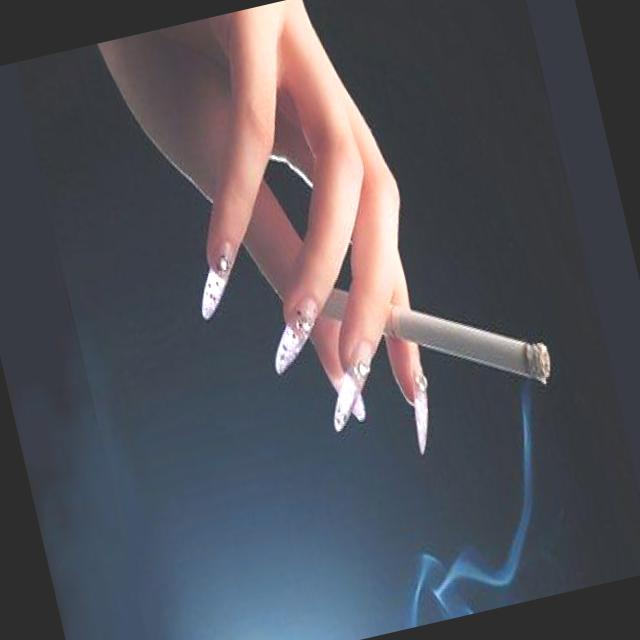cigarette: (291, 210, 578, 464)
